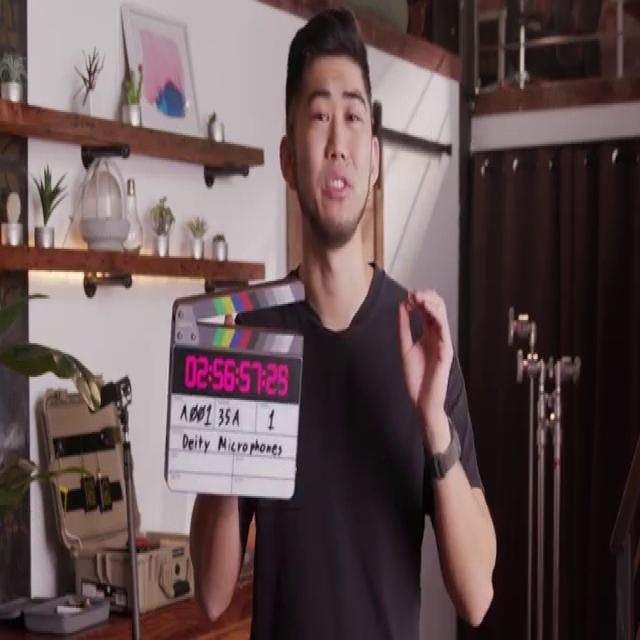Clapperboard: (161, 277, 306, 503)
